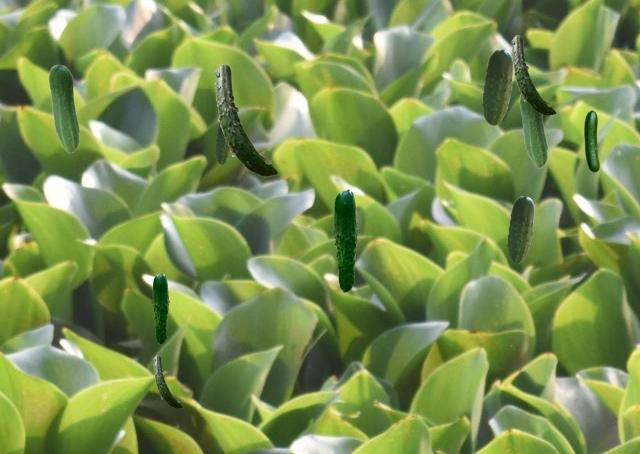cucumber: (214, 64, 277, 175), (511, 35, 555, 114), (48, 64, 79, 152), (333, 189, 357, 291), (482, 49, 512, 124), (519, 94, 547, 167), (507, 196, 533, 262), (153, 355, 182, 407), (152, 273, 168, 343), (584, 110, 598, 171), (215, 124, 230, 163)
